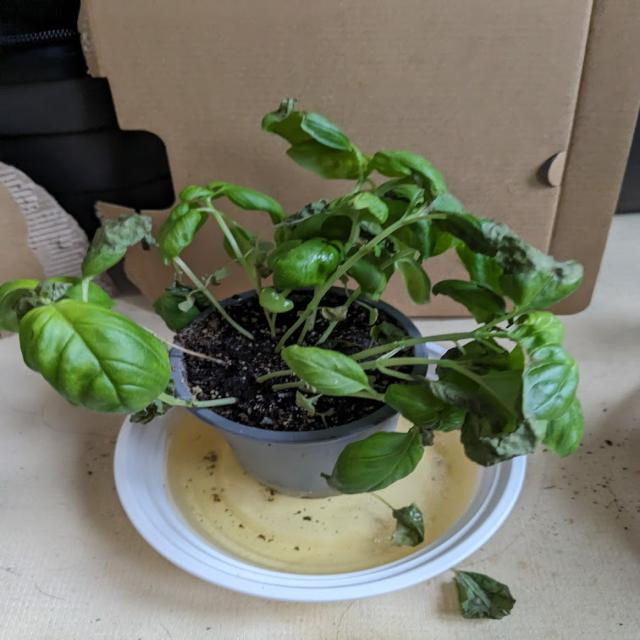dark: (452, 214, 592, 285), (461, 416, 545, 471), (448, 570, 528, 616), (95, 202, 158, 260), (425, 380, 495, 411), (394, 513, 430, 550), (278, 202, 328, 227), (266, 99, 317, 120), (319, 471, 350, 498), (197, 267, 234, 289), (418, 188, 445, 218), (516, 340, 544, 368), (162, 274, 194, 296), (136, 403, 170, 422), (13, 293, 41, 315), (36, 282, 72, 299), (316, 307, 347, 324), (415, 427, 439, 447), (506, 311, 534, 328), (251, 262, 274, 280), (182, 297, 200, 313)
healthy: (281, 345, 371, 399), (275, 243, 347, 291), (222, 188, 290, 225), (164, 204, 204, 263), (350, 256, 390, 297), (179, 184, 216, 201)
yellow: (20, 300, 136, 347), (322, 138, 388, 184), (394, 259, 436, 304), (260, 286, 294, 316)
